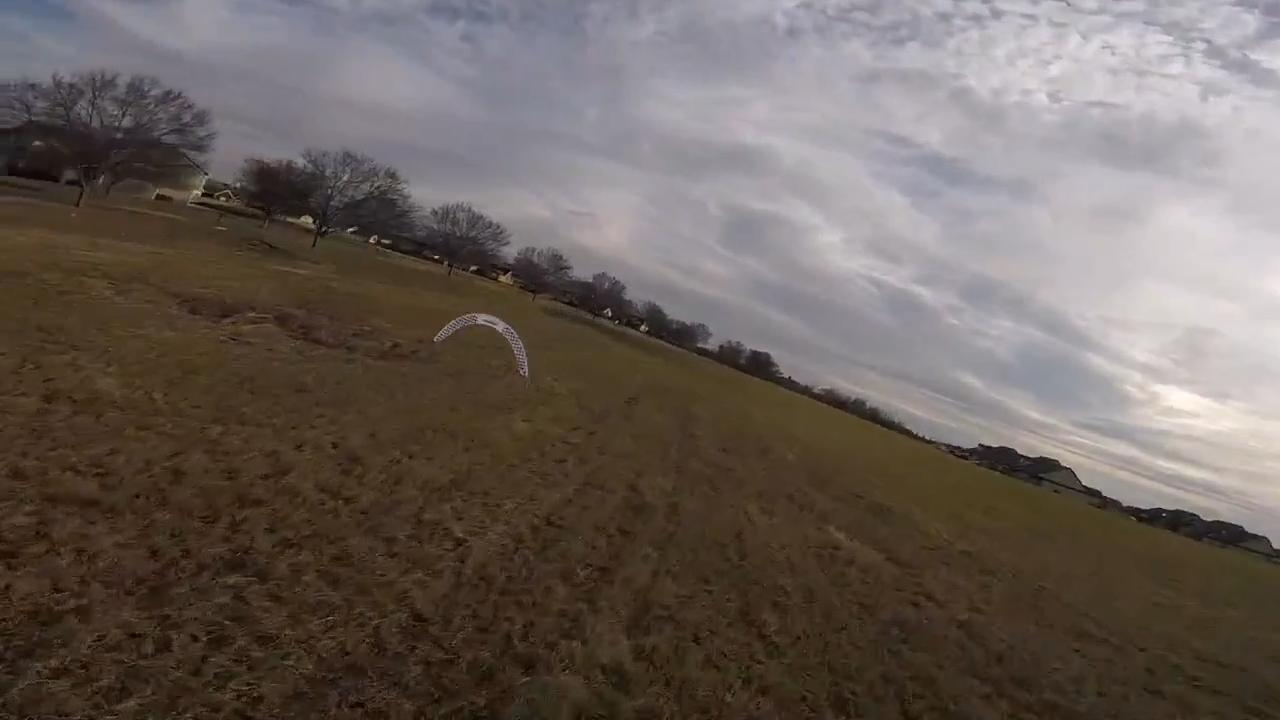gate: (428, 309, 528, 379)
